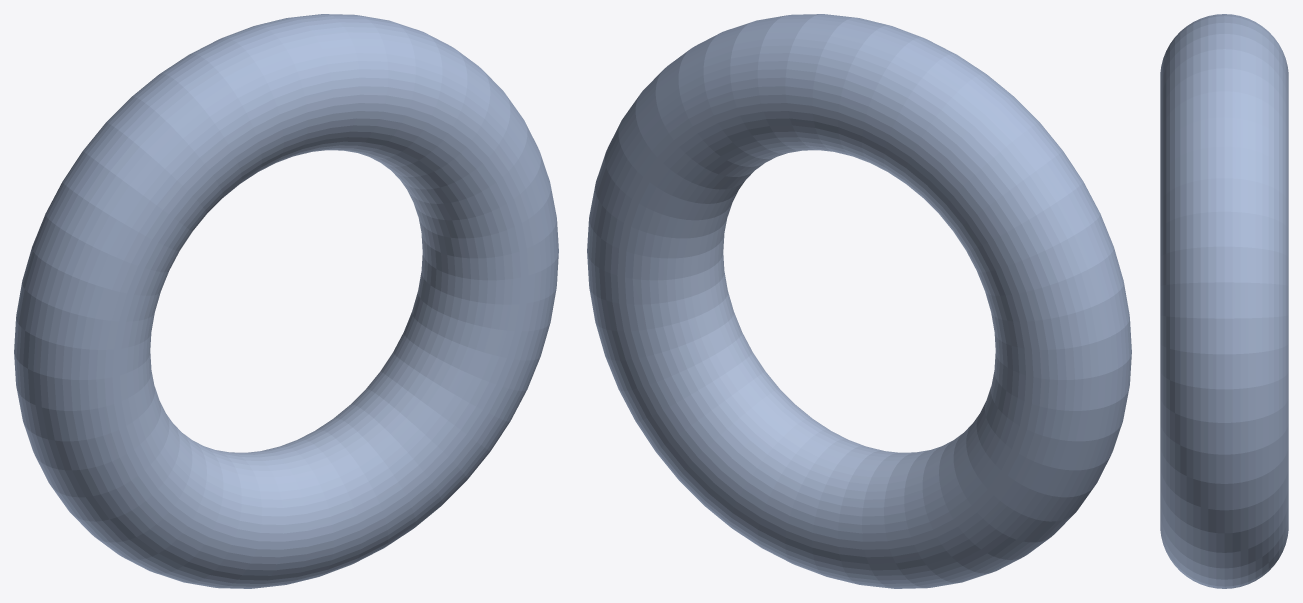
3 views of the same model, side by side, from view 1: azimuth 30°, elevation 25°; view 2: azimuth 150°, elevation 25°; view 3: azimuth 270°, elevation 25° (orthographic). The views are drawn at different scales.
Visible parts, largest first — view 1: world; view 2: world; view 3: world.
Part boxes in pixels (<box>): world: <box>14,14,558,588</box>; world: <box>587,14,1131,588</box>; world: <box>1160,14,1288,588</box>.
Bounding box in the file's own units: 23.2 × 23.15 × 5.19.
